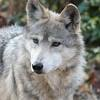Lobo: (11, 1, 91, 81)
